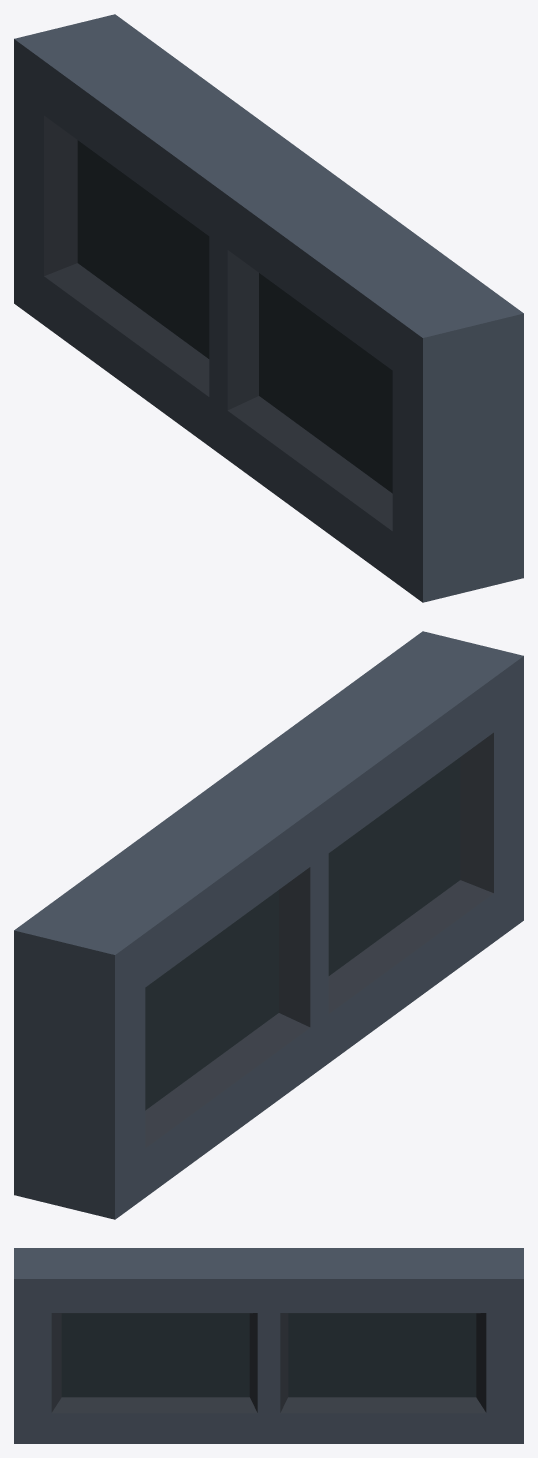
File: 3D_clock_hung_2.fbx
3 views of the same model, one above another, from view 1: azimuth 30°, elevation 25°; view 2: azimuth 150°, elevation 25°; view 3: azimuth 270°, elevation 25° (orthographic). The views are drawn at different scales.
Parts seen in each view (by area): view 1: Clock; view 2: Clock; view 3: Clock.
Boxes of the visible parts, left/top/right/bottom form: Clock: left=14, top=14, right=523, bottom=602; Clock: left=14, top=631, right=523, bottom=1219; Clock: left=14, top=1248, right=523, bottom=1443.
Bounding box in the file's own units: 0.2 × 0.5 × 1.4.
